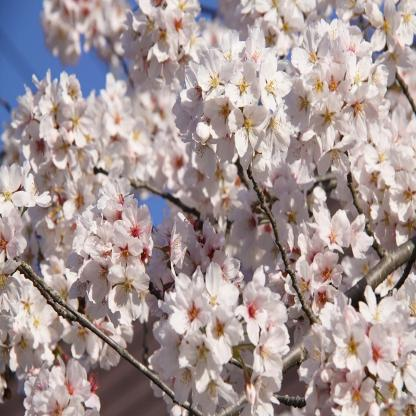Someiyoshino: (1, 2, 415, 416)
